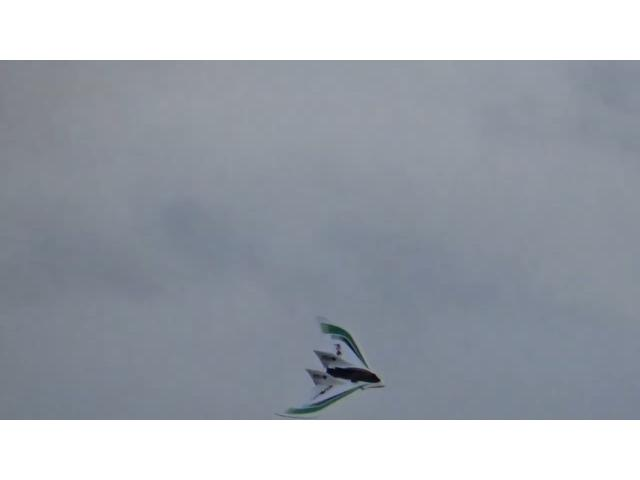Anti-Drone: (272, 314, 386, 420)
